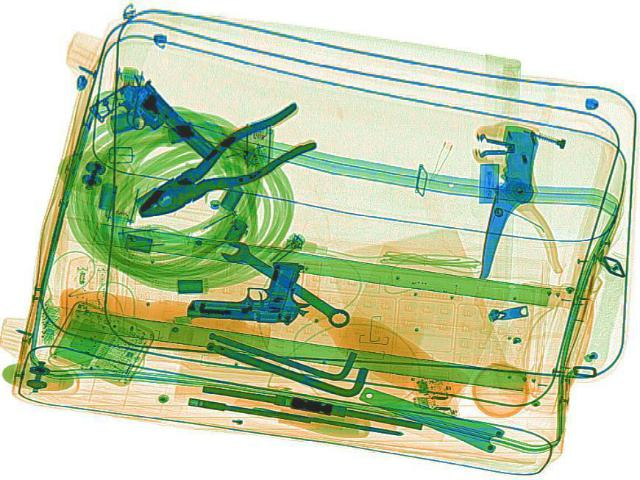Gun: (80, 73, 224, 182), (183, 255, 317, 322)
Pliers: (113, 99, 335, 228)
Wrench: (211, 235, 355, 329)
